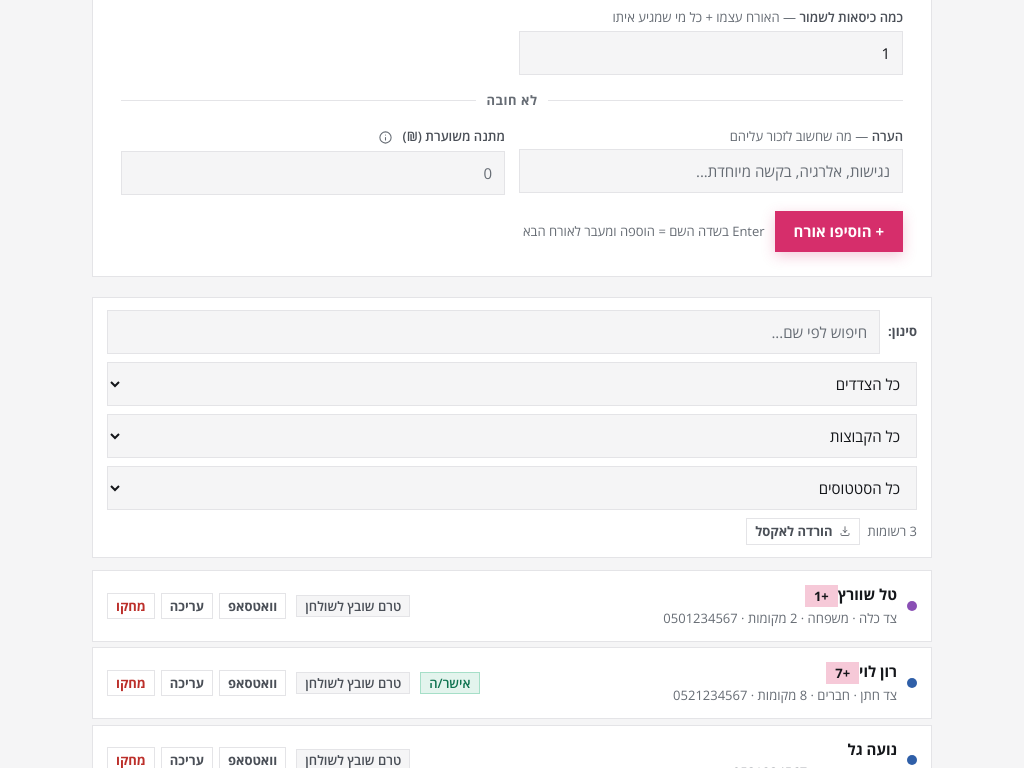
Test: the bulk RSVP bar › asks first, naming how many answers will be replaced; cancel changes nothing
(page scrolled)
Select "צד חתן" in the dropdown named "סינון לפי צד": (512, 384) [107,362,917,406]
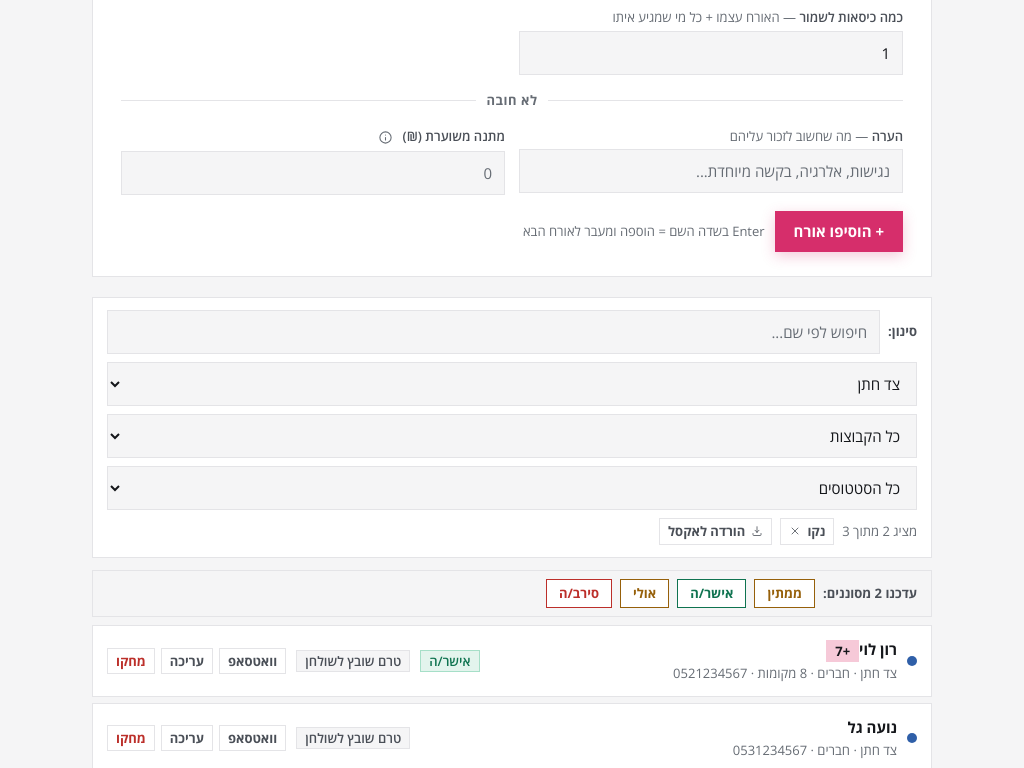
Result: the element showing "עדכנו 2 מסוננים: ממתין אישר/ה אולי סירב/ה" is shown at [92,570,932,617]
Click the button "סירב/ה": click(579, 593) [546,579,612,608]
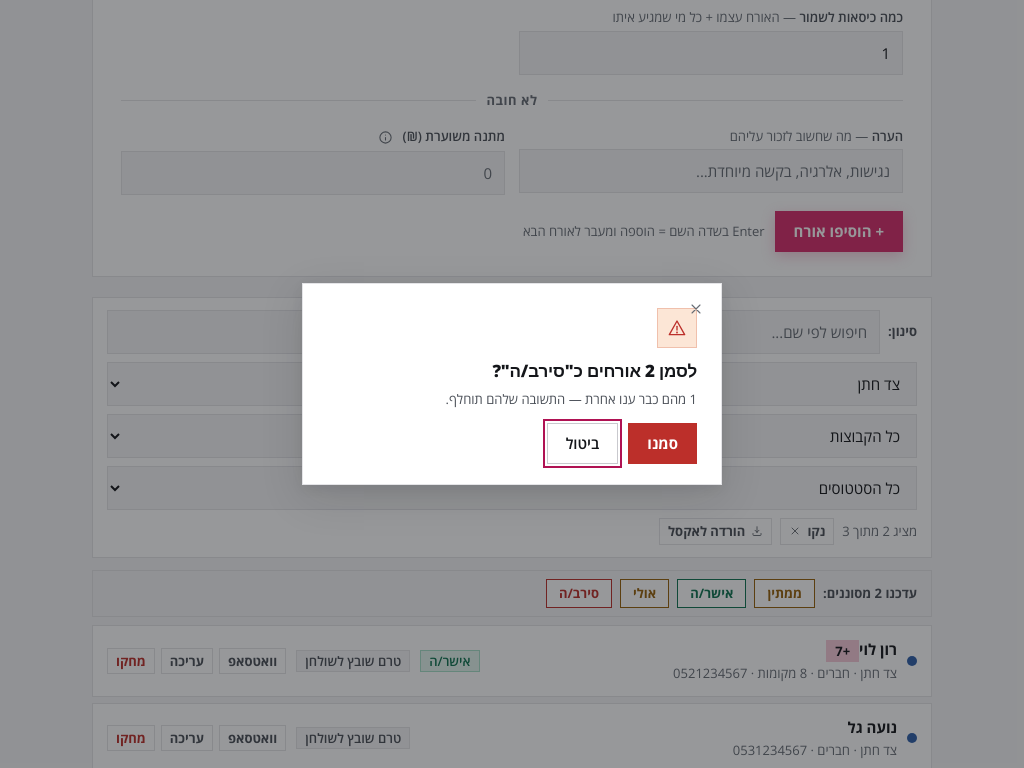
Result: the text "כבר ענו אחרת" is shown at [446,390,697,408]
Click the button "ביטול": click(582, 444) [547,423,618,464]
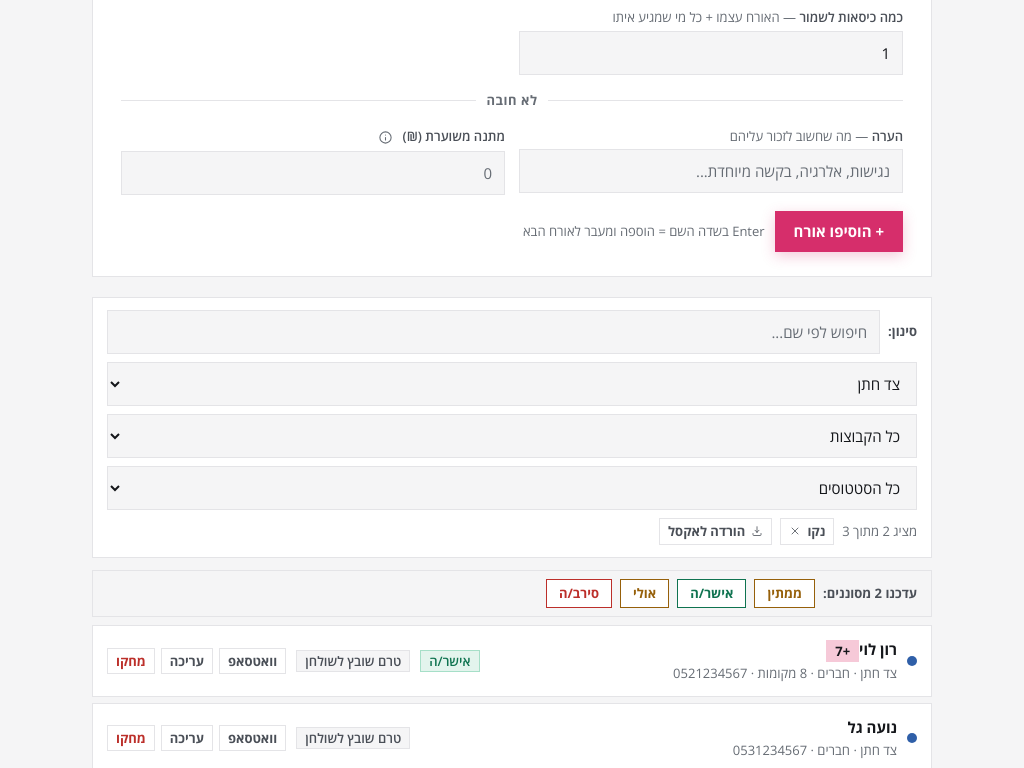
Result: the text "כבר ענו אחרת" is gone
